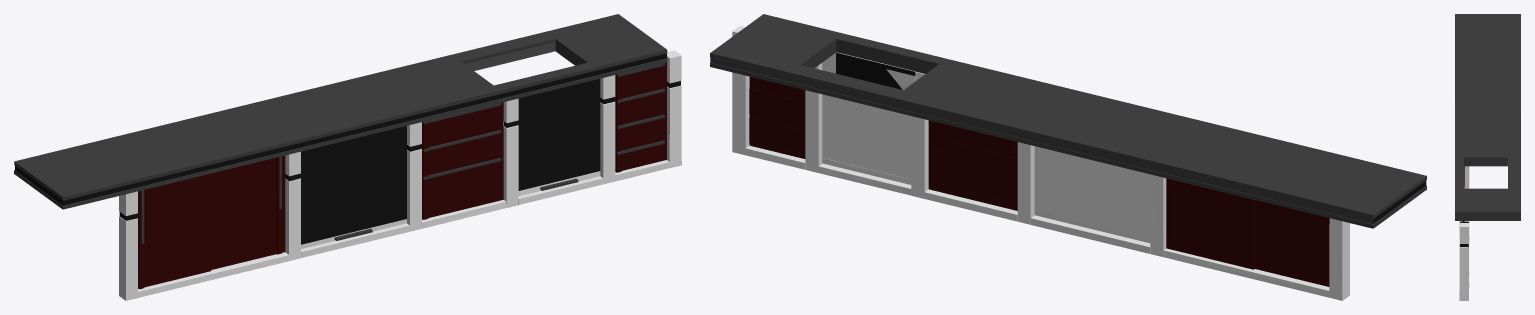
File: Kitchen furniture 4.FBX
3 renders of one model, left to right at view 1: azimuth 30°, elevation 25°; view 2: azimuth 150°, elevation 25°; view 3: azimuth 270°, elevation 25°, orthographic. The views are drawn at different scales.
Parts seen in each view (by area): view 1: Kitchen furniture 4; view 2: Kitchen furniture 4; view 3: Kitchen furniture 4.
Part boxes in pixels (x1,y1,x2,y2): Kitchen furniture 4: [14, 14, 681, 300]; Kitchen furniture 4: [710, 14, 1426, 300]; Kitchen furniture 4: [1455, 14, 1520, 300].
Size of the model in its own units: 5150 by 970 by 700.
